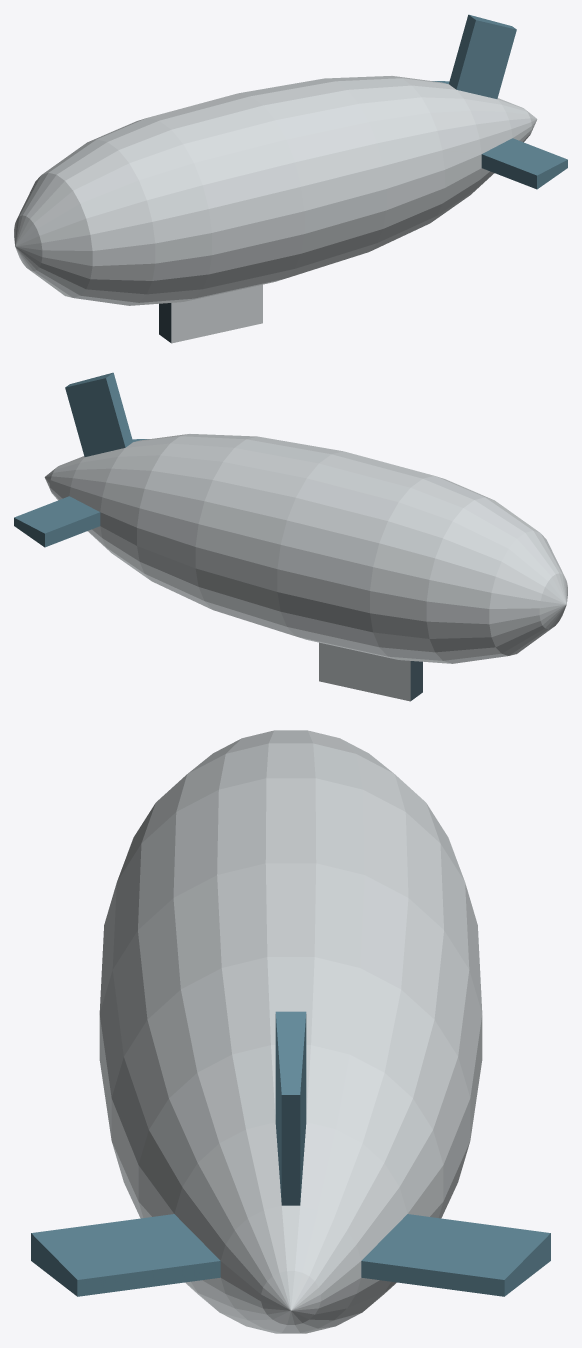
Rendered from NEW_RECOVERY_022_LOD0.glb.
3 views of the same model, one above another, from view 1: azimuth 30°, elevation 25°; view 2: azimuth 150°, elevation 25°; view 3: azimuth 270°, elevation 25° (orthographic). The views are drawn at different scales.
Parts seen in each view (by area): view 1: Airship; view 2: Airship; view 3: Airship.
Boxes of the visible parts, <box> form: Airship: <box>14,14,567,343</box>; Airship: <box>14,372,567,701</box>; Airship: <box>31,730,550,1333</box>.
Size of the model in its own units: 8 by 3.64 by 3.45.
